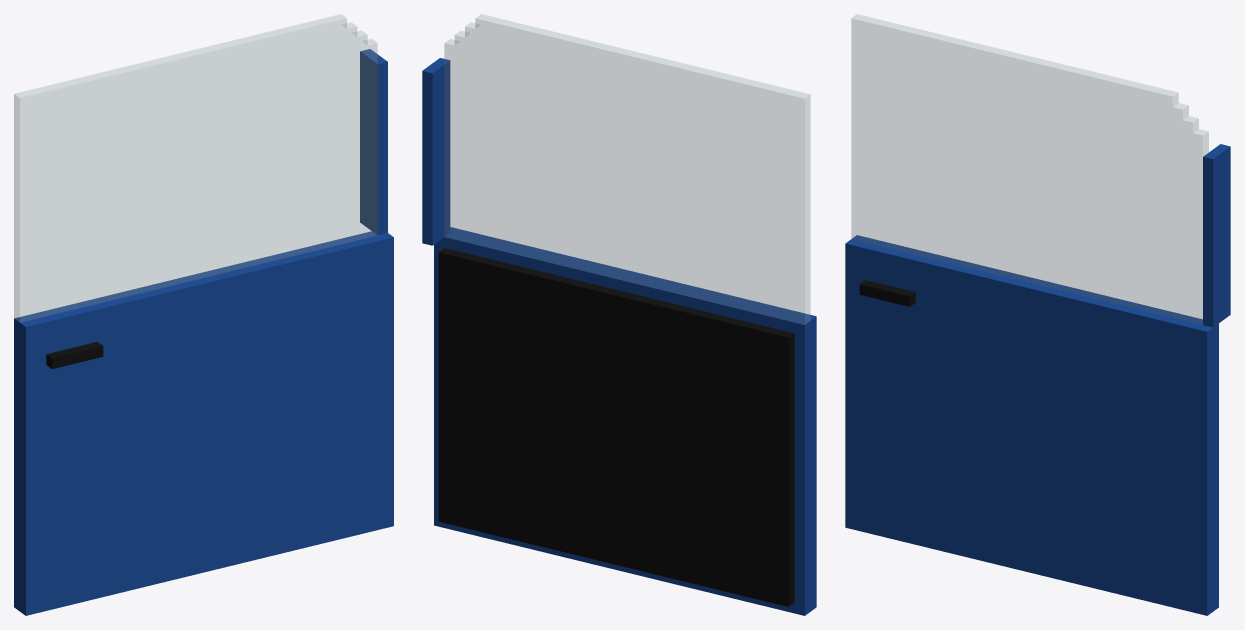
Rendered from high_roof_van_front_door.glb.
The picture shows the model from 3 angles, left to right: view 1: azimuth 30°, elevation 25°; view 2: azimuth 150°, elevation 25°; view 3: azimuth 330°, elevation 25°; orthographic projection. The views are drawn at different scales.
Visible parts, largest first — view 1: body:compound; view 2: body:compound; view 3: body:compound.
Boxes of the visible parts, x1,y1,x2,y2 form: body:compound: (14,14,393,615); body:compound: (422,14,816,615); body:compound: (845,14,1230,615).
Size of the model in its own units: 1.12 by 1.5 by 0.1562.
